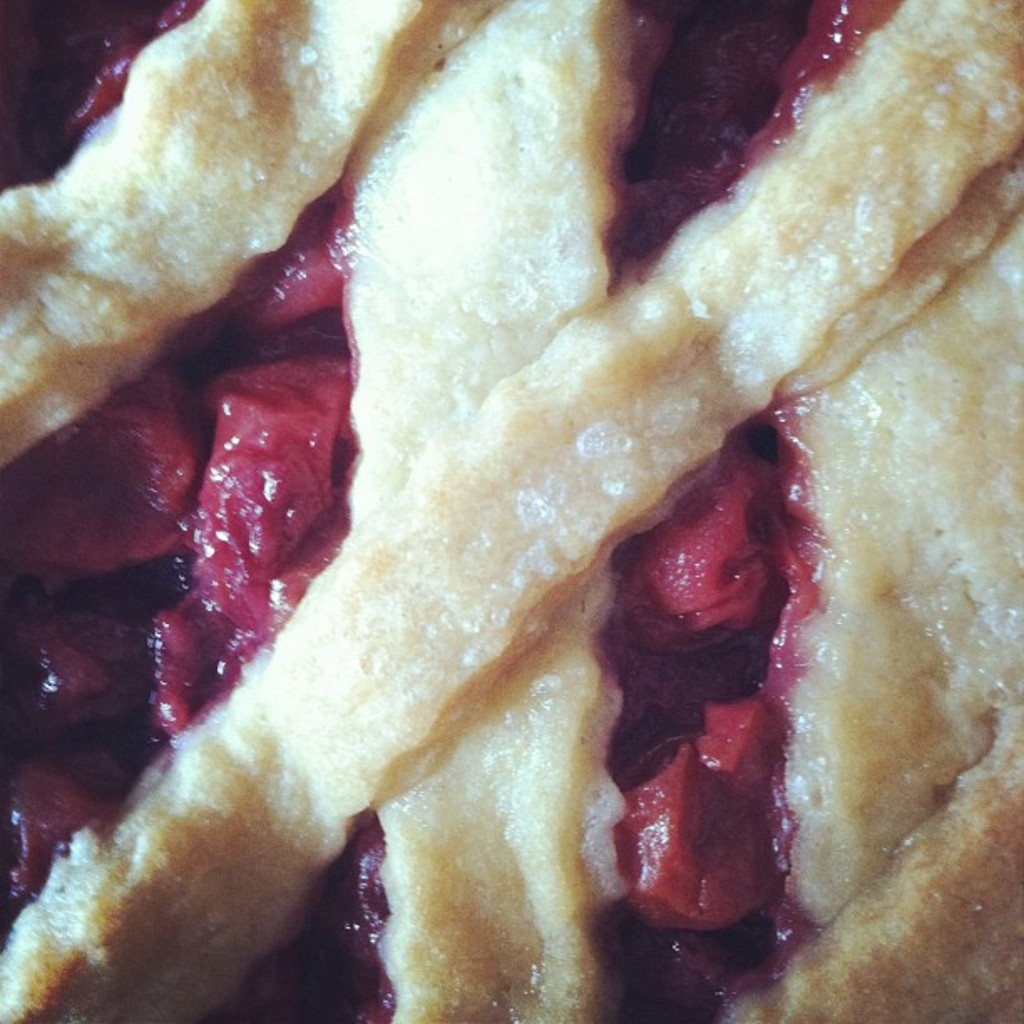face: (638, 485, 778, 652)
